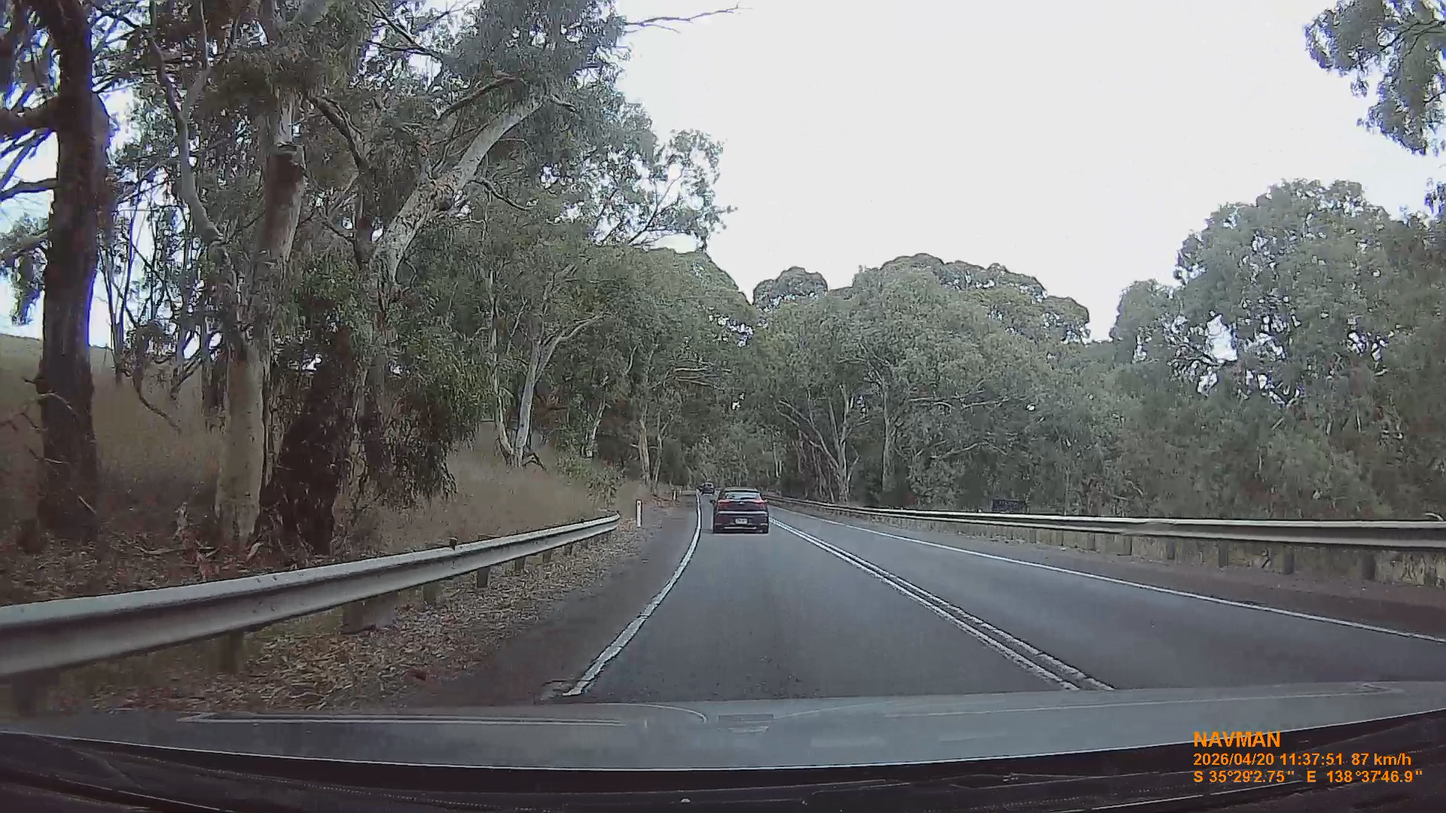road barriers: (2, 513, 633, 680), (781, 501, 1442, 576)
